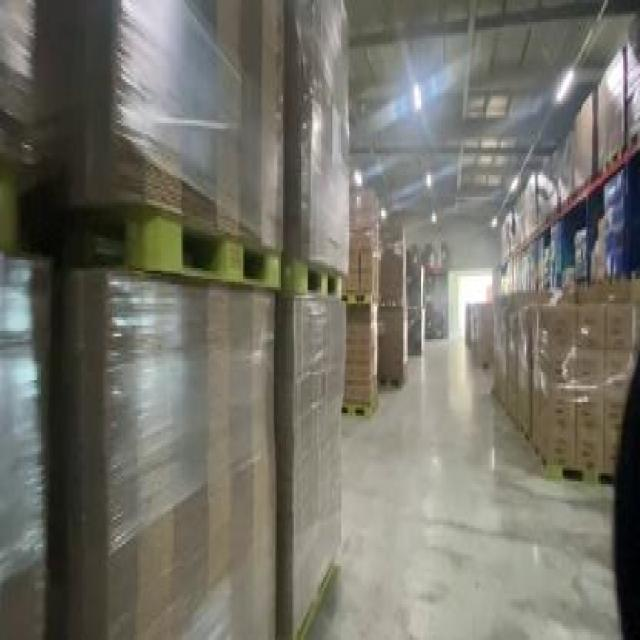box: (2, 0, 344, 635), (489, 282, 638, 489), (338, 186, 382, 424), (374, 224, 411, 391), (592, 52, 626, 164), (589, 180, 623, 282), (416, 243, 450, 344), (459, 298, 503, 369), (546, 219, 586, 287), (534, 137, 571, 210), (404, 246, 428, 353), (571, 98, 595, 189)
